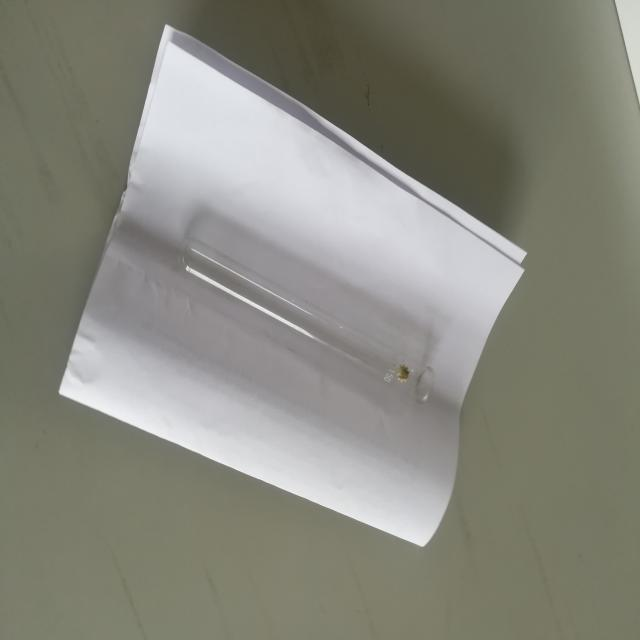Test_Tube: (142, 239, 454, 446)
